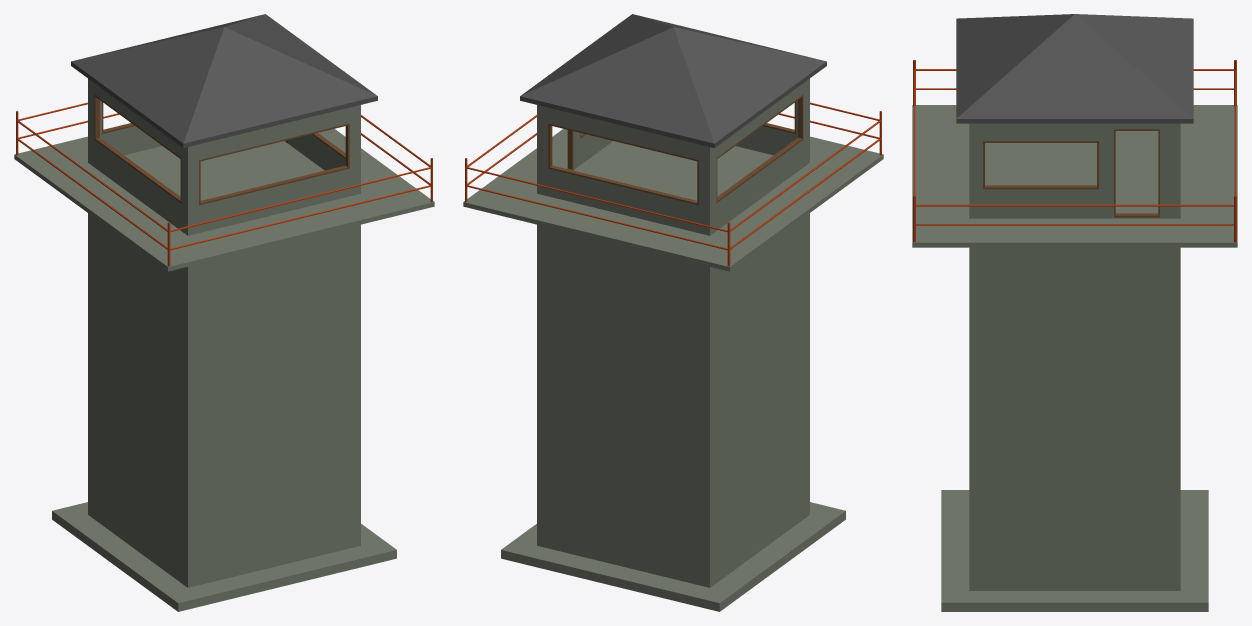
The model's file is Guard_Tower.fbx.
3 renders of one model, left to right at view 1: azimuth 30°, elevation 25°; view 2: azimuth 150°, elevation 25°; view 3: azimuth 270°, elevation 25°, orthographic. The views are drawn at different scales.
Visible parts, largest first — view 1: Booléen_1; view 2: Booléen_1; view 3: Booléen_1.
Boxes of the visible parts, x1,y1,x2,y2 form: Booléen_1: (14,14,434,611); Booléen_1: (463,14,883,611); Booléen_1: (912,14,1237,611).
Bounding box in the file's own units: 617 × 1132 × 617.
1 material, 1 textured.
